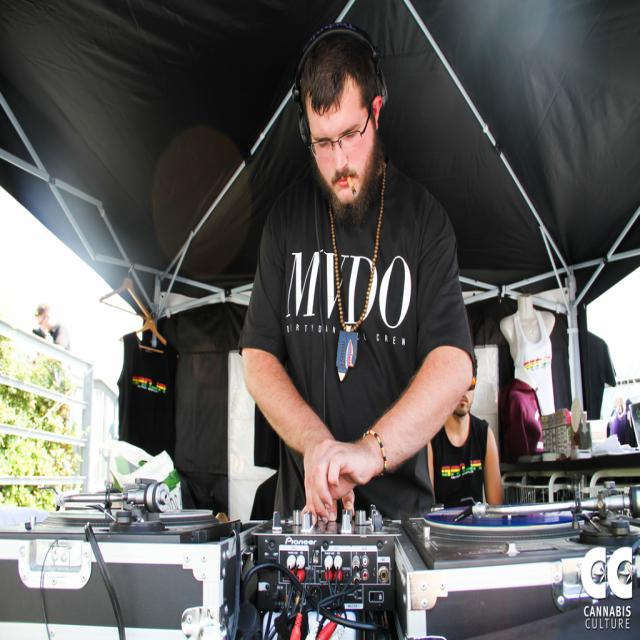no_helmet: (278, 105, 390, 206)
